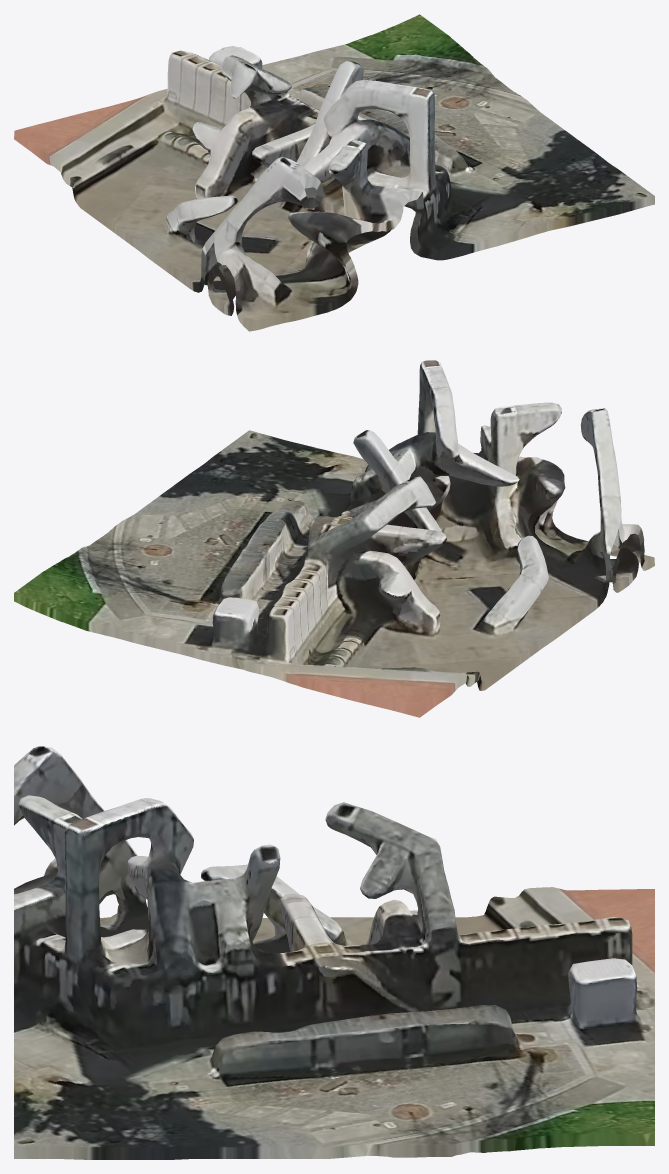
File: z20-167785-405220-h0-yup-uvflip-v3-world.glb
3 renders of one model, top to bottom at view 1: azimuth 30°, elevation 25°; view 2: azimuth 150°, elevation 25°; view 3: azimuth 270°, elevation 25°, orthographic. The views are drawn at different scales.
Size of the model in its own units: 30.2 by 12.4 by 30.32.
Materials: 1 (1 with a texture image).
